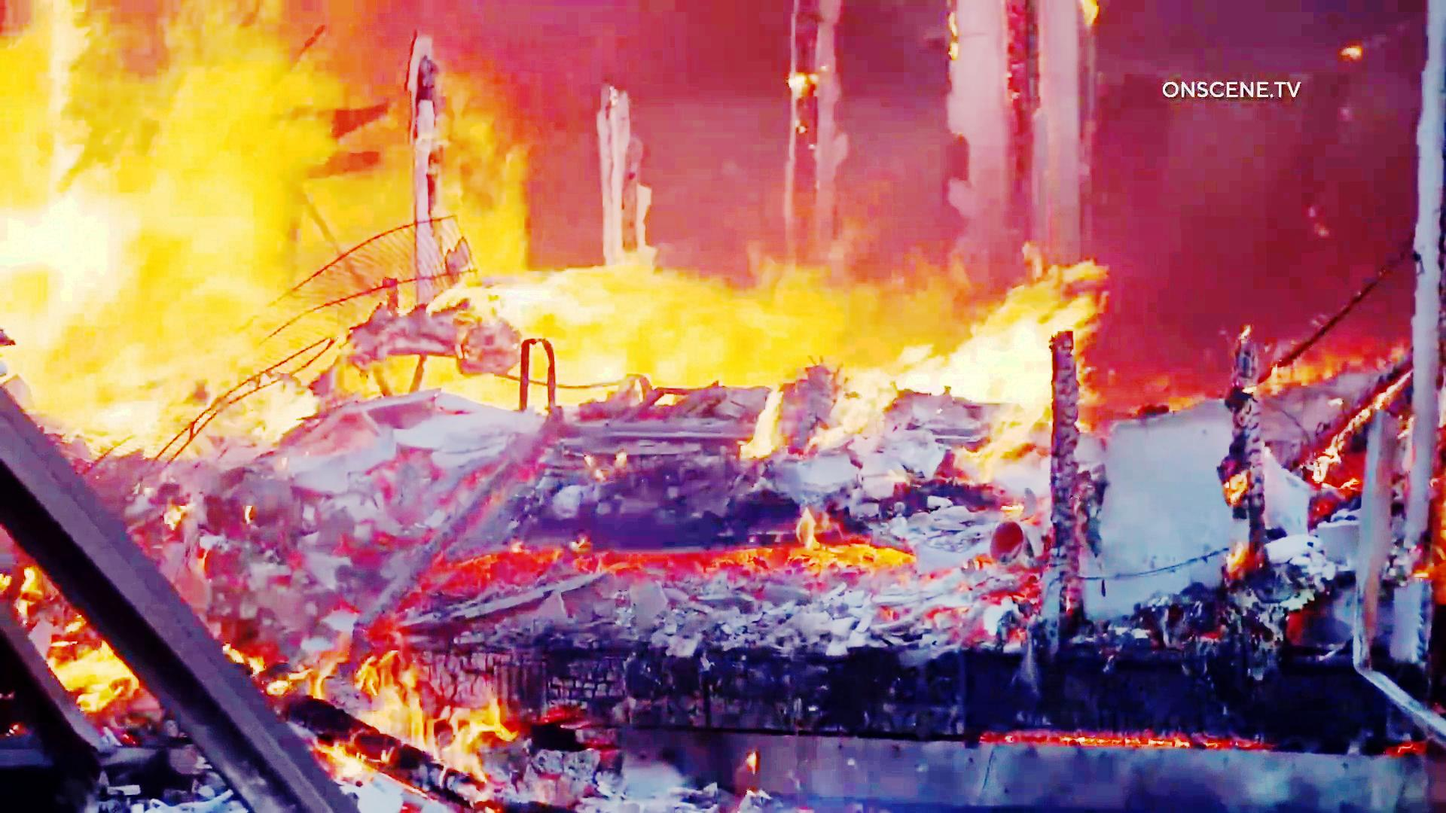fire: (15, 0, 1100, 390)
